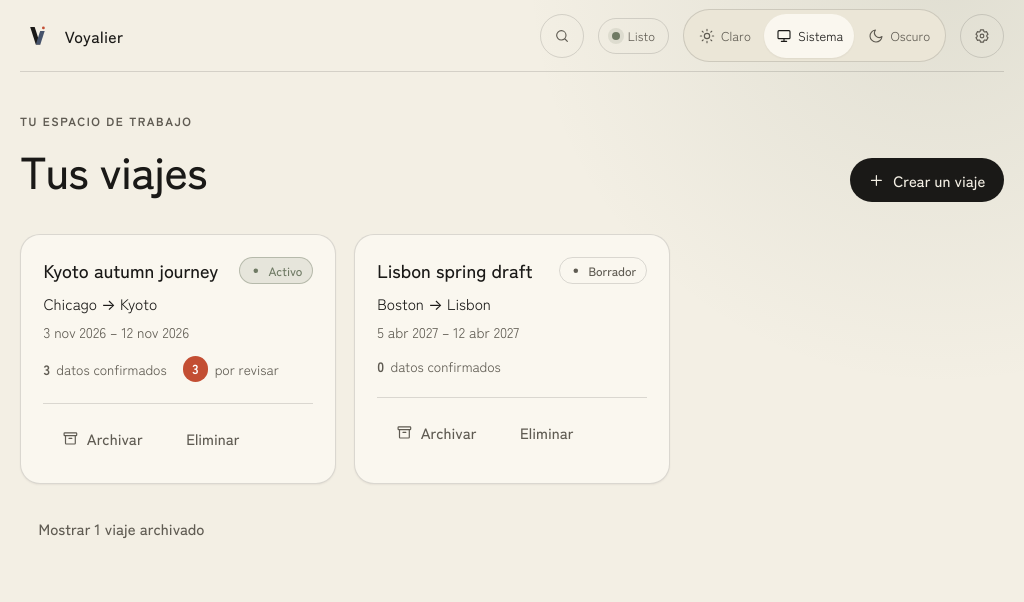
Scenario: traveler-owned planning workflows › localizes packing progress and reversible filter controls
The image size is (1024, 602).
Click the button with aria-label "Abrir Kyoto autumn journey". click: (131, 270)
box: [43,257,218,283]
(page scrolled)
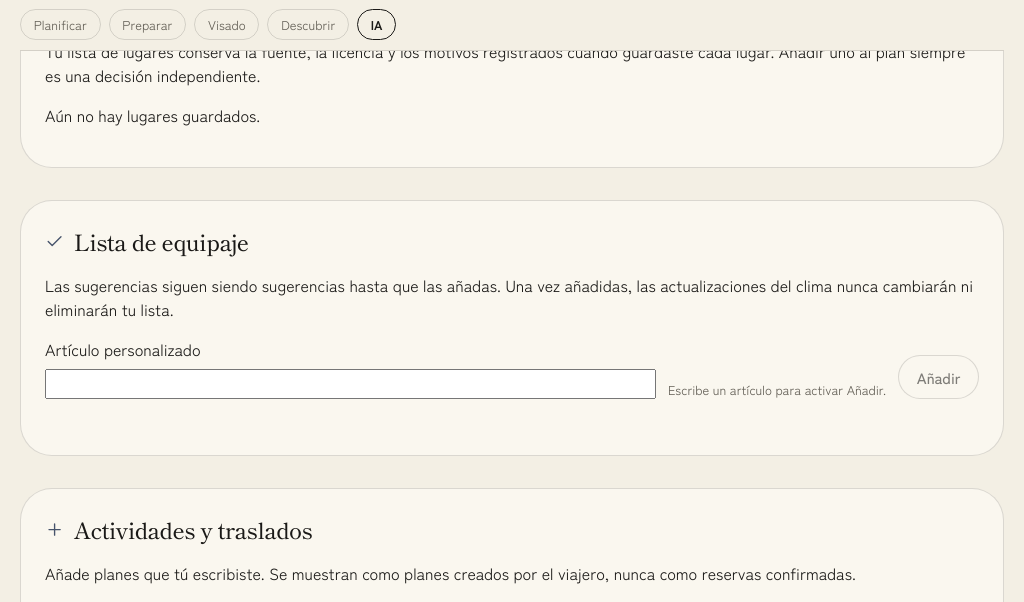
Type "Pasaporte" into the field labelled "Artículo personalizado". click: (350, 384)
box: [45,369,656,399]
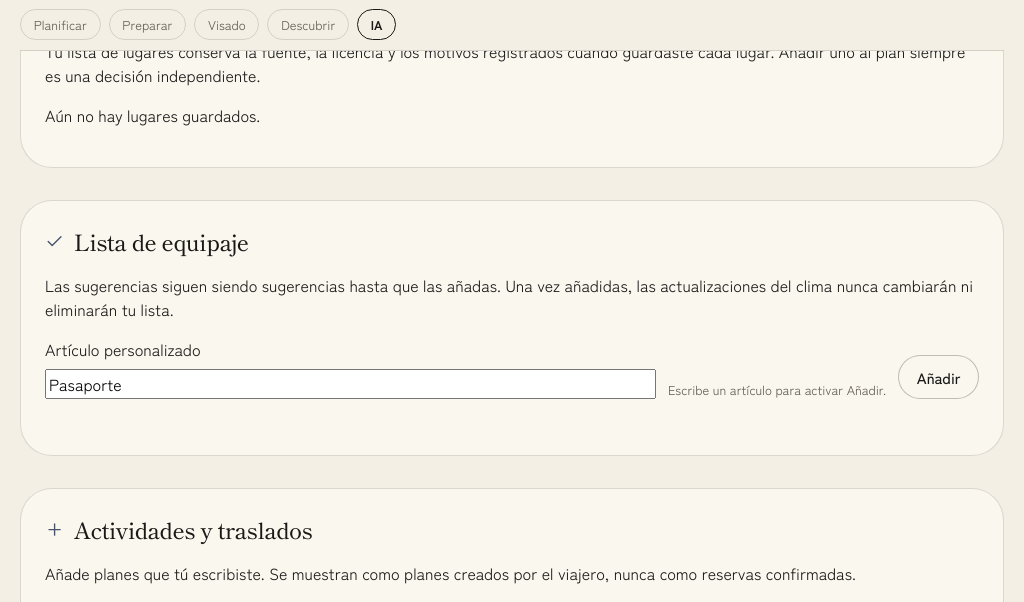
Click the button "Añadir". click: (939, 377)
box: [898,355,979,399]
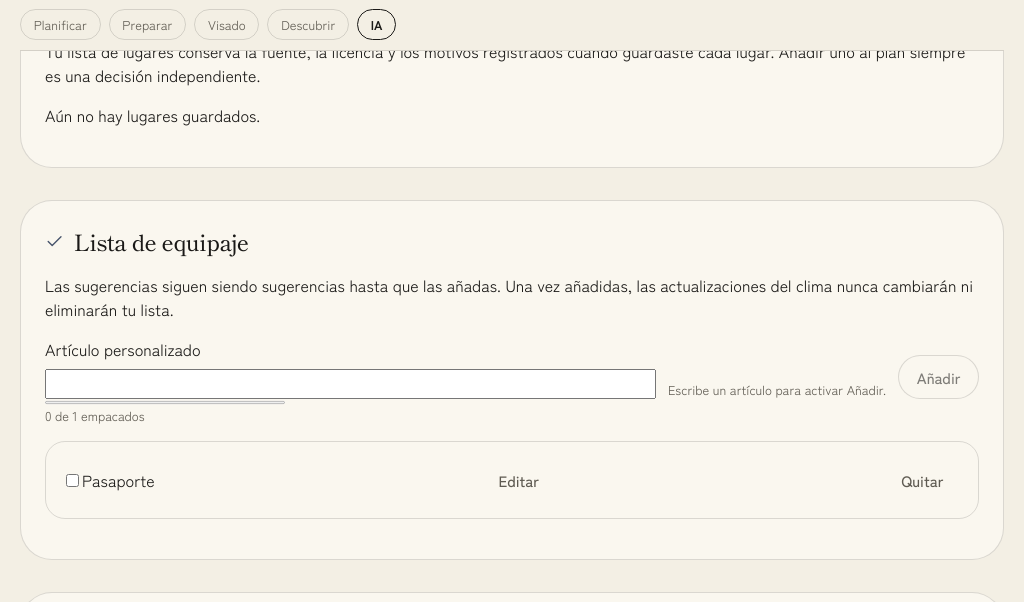
Check: the progress indicator named "0 de 1 empacados" is shown, box [45,399,285,406]
Click the checkbox labelled "Pasaporte". click: (72, 481)
box: [66,474,79,487]
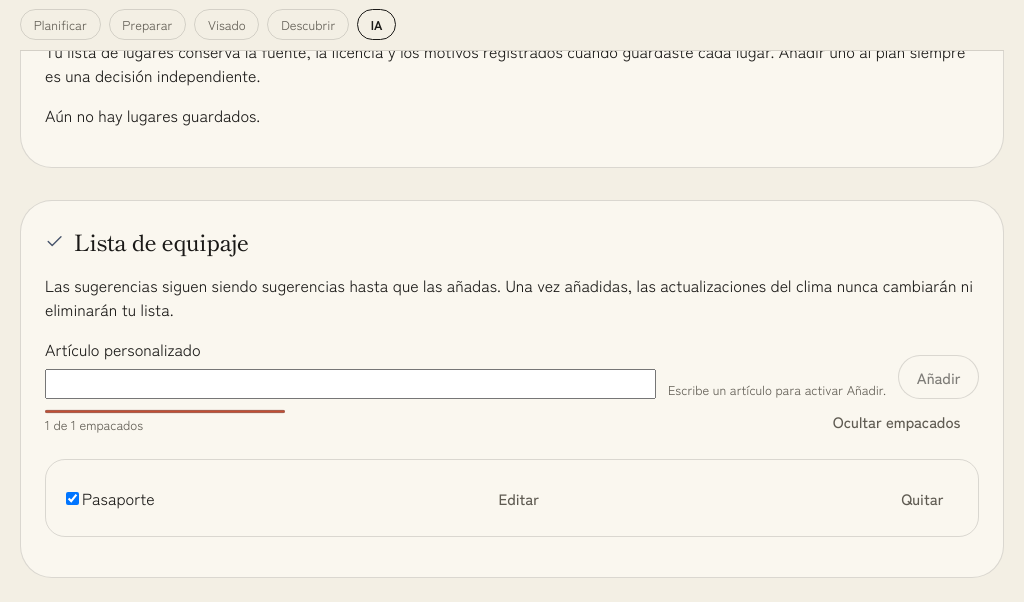
Check: the progress indicator named "1 de 1 empacados" is shown, box [45,408,285,415]
Check: the button "Ocultar empacados" is shown, box [814,399,979,443]
